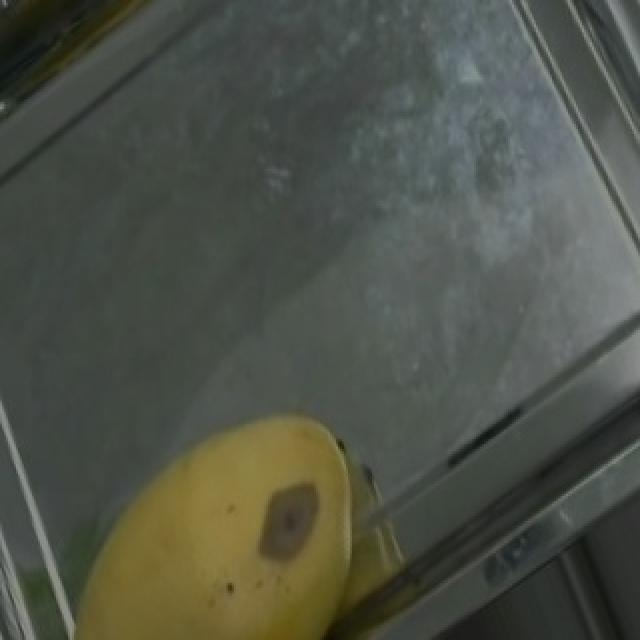fruit: (76, 357, 458, 640)
